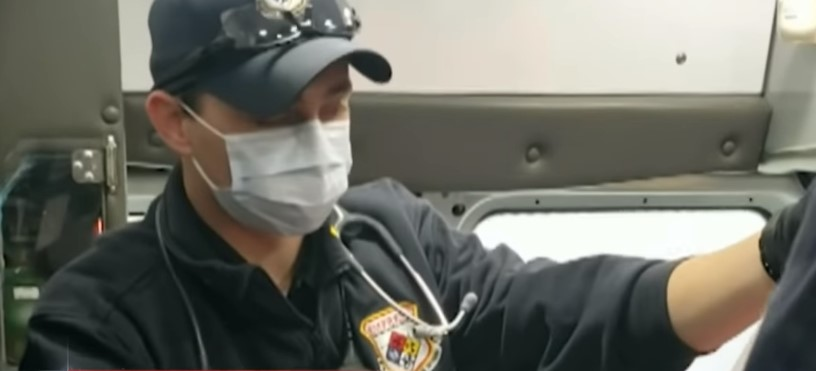face_with_mask: (151, 3, 390, 241)
